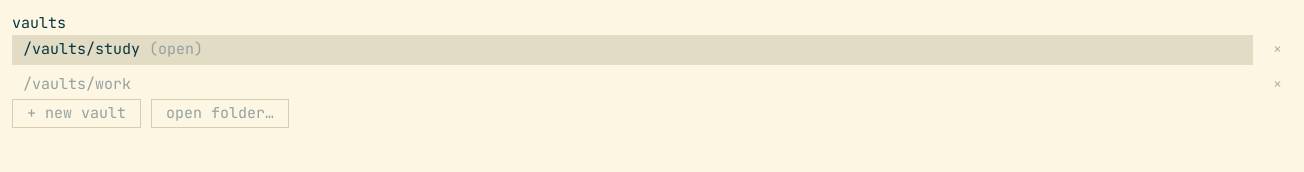
Scenario: VaultSection › shows mutation errors
Click the button named "remove /vaults/work" at (1278, 84), box [1263, 70, 1292, 98]
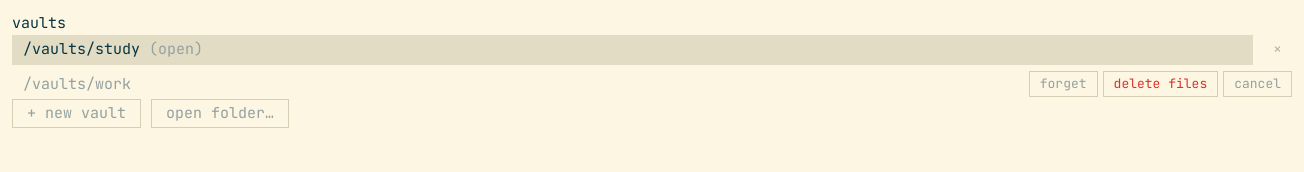
Click the button "forget" at (1063, 84), box [1029, 71, 1098, 97]
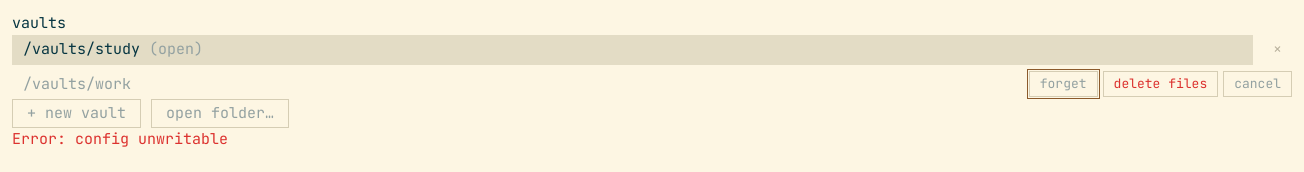
Expected: the text "Error: config unwritable" is shown, [12, 129, 228, 149]
